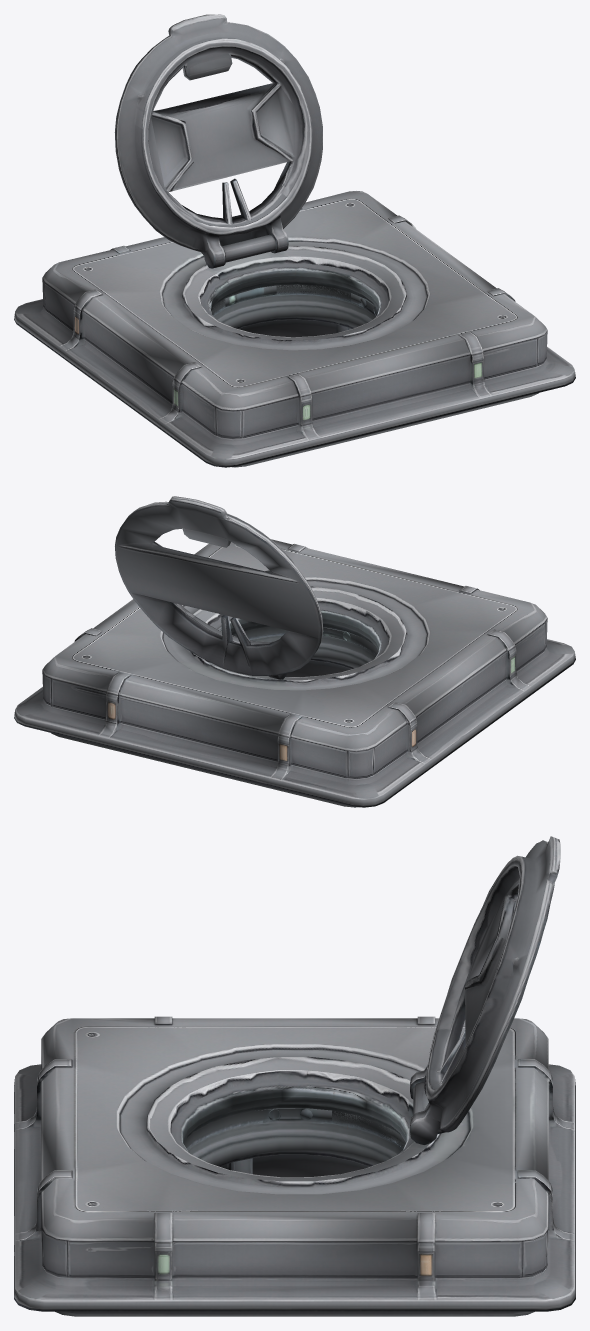
File: tripo_convert_7bdd43f9-0cec-4f4e-ac64-e89b4c5ba670.fbx
3 renders of one model, top to bottom at view 1: azimuth 30°, elevation 25°; view 2: azimuth 150°, elevation 25°; view 3: azimuth 270°, elevation 25°, orthographic. The views are drawn at different scales.
Parts seen in each view (by area): view 1: tripo_node_7bdd43f9; view 2: tripo_node_7bdd43f9; view 3: tripo_node_7bdd43f9.
Boxes of the visible parts, x1,y1,x2,y2 form: tripo_node_7bdd43f9: (14,14,575,467); tripo_node_7bdd43f9: (14,496,575,807); tripo_node_7bdd43f9: (14,836,575,1316).
Bounding box in the file's own units: 0.998 × 0.8105 × 0.998.
